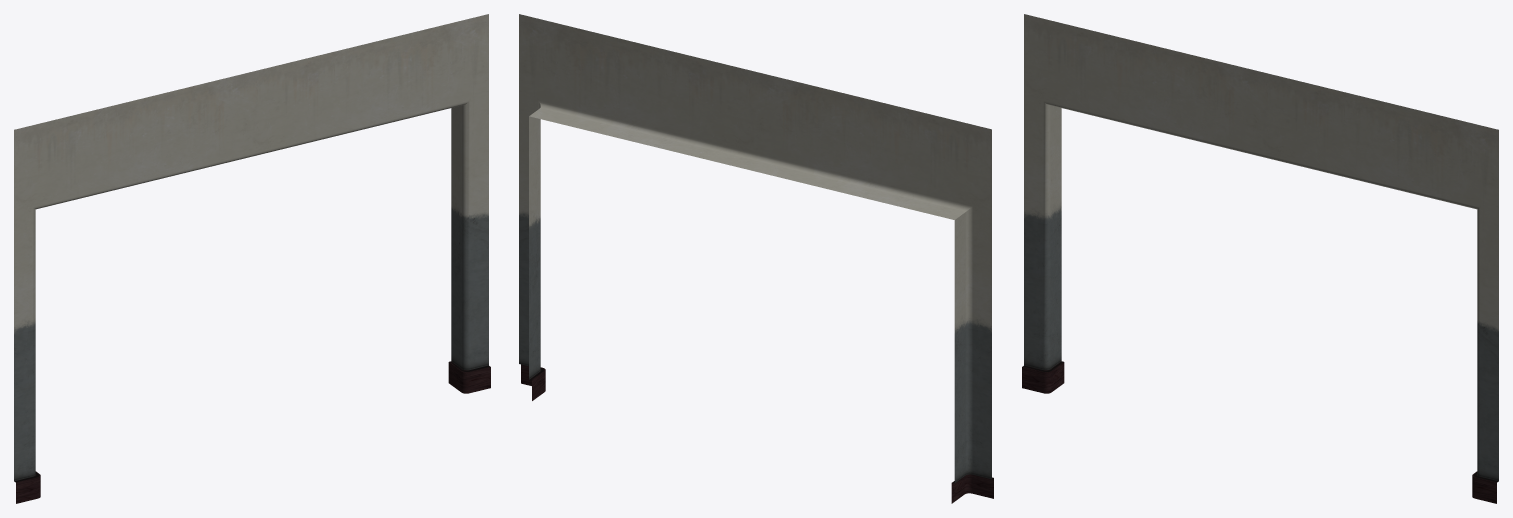
The model's file is Wall 4 Gate.fbx.
3 views of the same model, side by side, from view 1: azimuth 30°, elevation 25°; view 2: azimuth 150°, elevation 25°; view 3: azimuth 330°, elevation 25° (orthographic).
Visible parts, largest first — view 1: Wall_4_Gate; view 2: Wall_4_Gate; view 3: Wall_4_Gate.
Boxes of the visible parts, box(x1,y1,x2,y2) form: Wall_4_Gate: box(14, 14, 490, 503); Wall_4_Gate: box(519, 14, 993, 503); Wall_4_Gate: box(1022, 14, 1498, 503).
Size of the model in its own units: 400 by 300 by 23.
